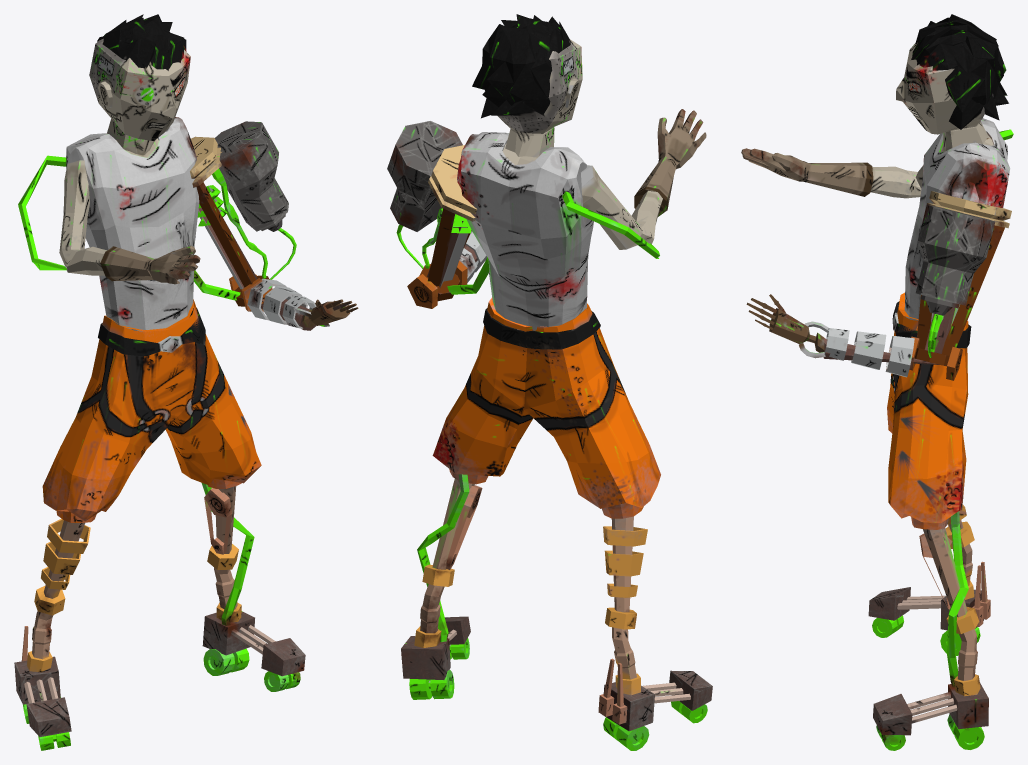
Rendered from CyborgFINALAnimation_000026.obj.
3 renders of one model, left to right at view 1: azimuth 30°, elevation 25°; view 2: azimuth 150°, elevation 25°; view 3: azimuth 270°, elevation 25°, orthographic. The views are drawn at different scales.
Visible parts, largest first — view 1: CyborgMesh_Cube.002; view 2: CyborgMesh_Cube.002; view 3: CyborgMesh_Cube.002.
Boxes of the visible parts, x1,y1,x2,y2 form: CyborgMesh_Cube.002: (14, 14, 358, 750); CyborgMesh_Cube.002: (387, 14, 712, 750); CyborgMesh_Cube.002: (741, 14, 1013, 750).
Size of the model in its own units: 4.19 by 9.63 by 3.5.
